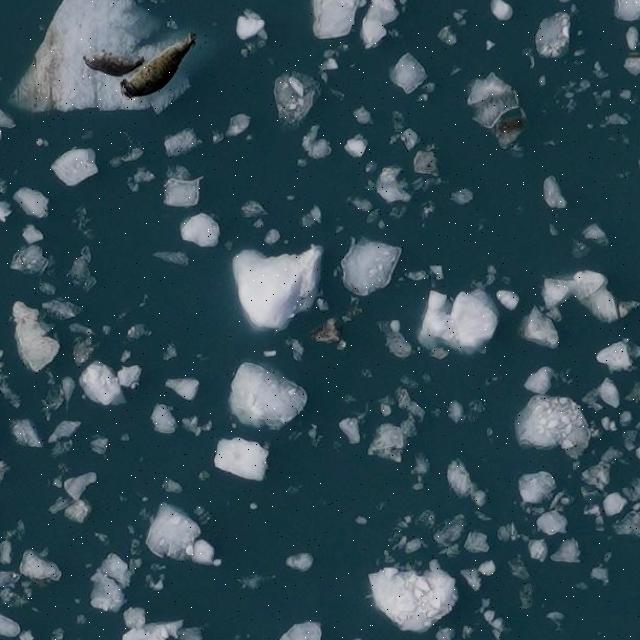seal: (122, 33, 196, 100), (85, 51, 143, 75)
